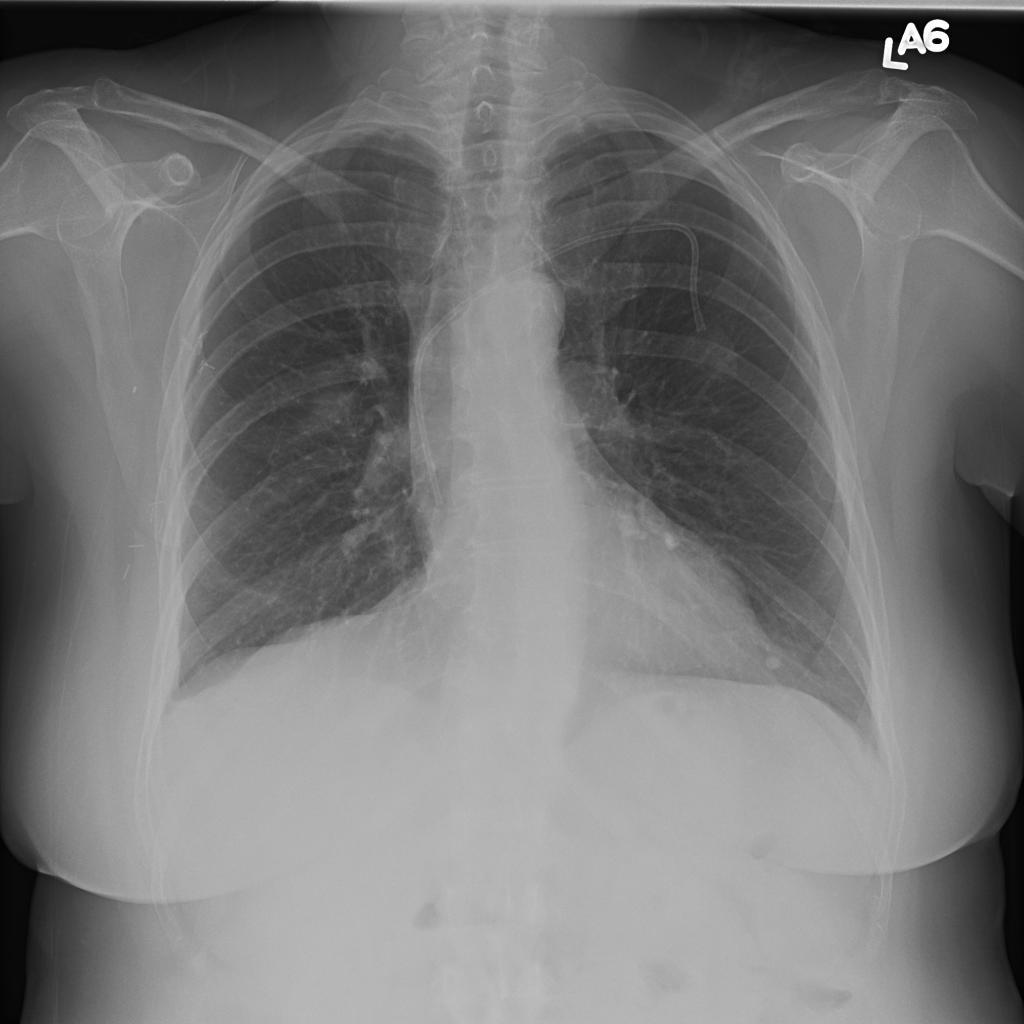Nodule: (150, 190, 190, 229)
